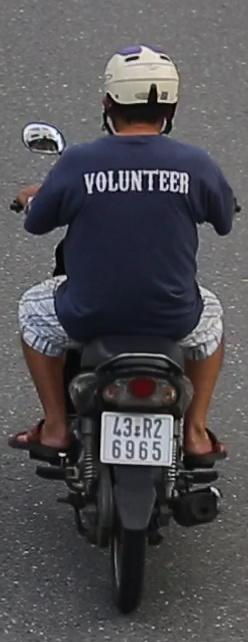LP: (96, 406, 178, 481)
helmet: (100, 42, 186, 124)
